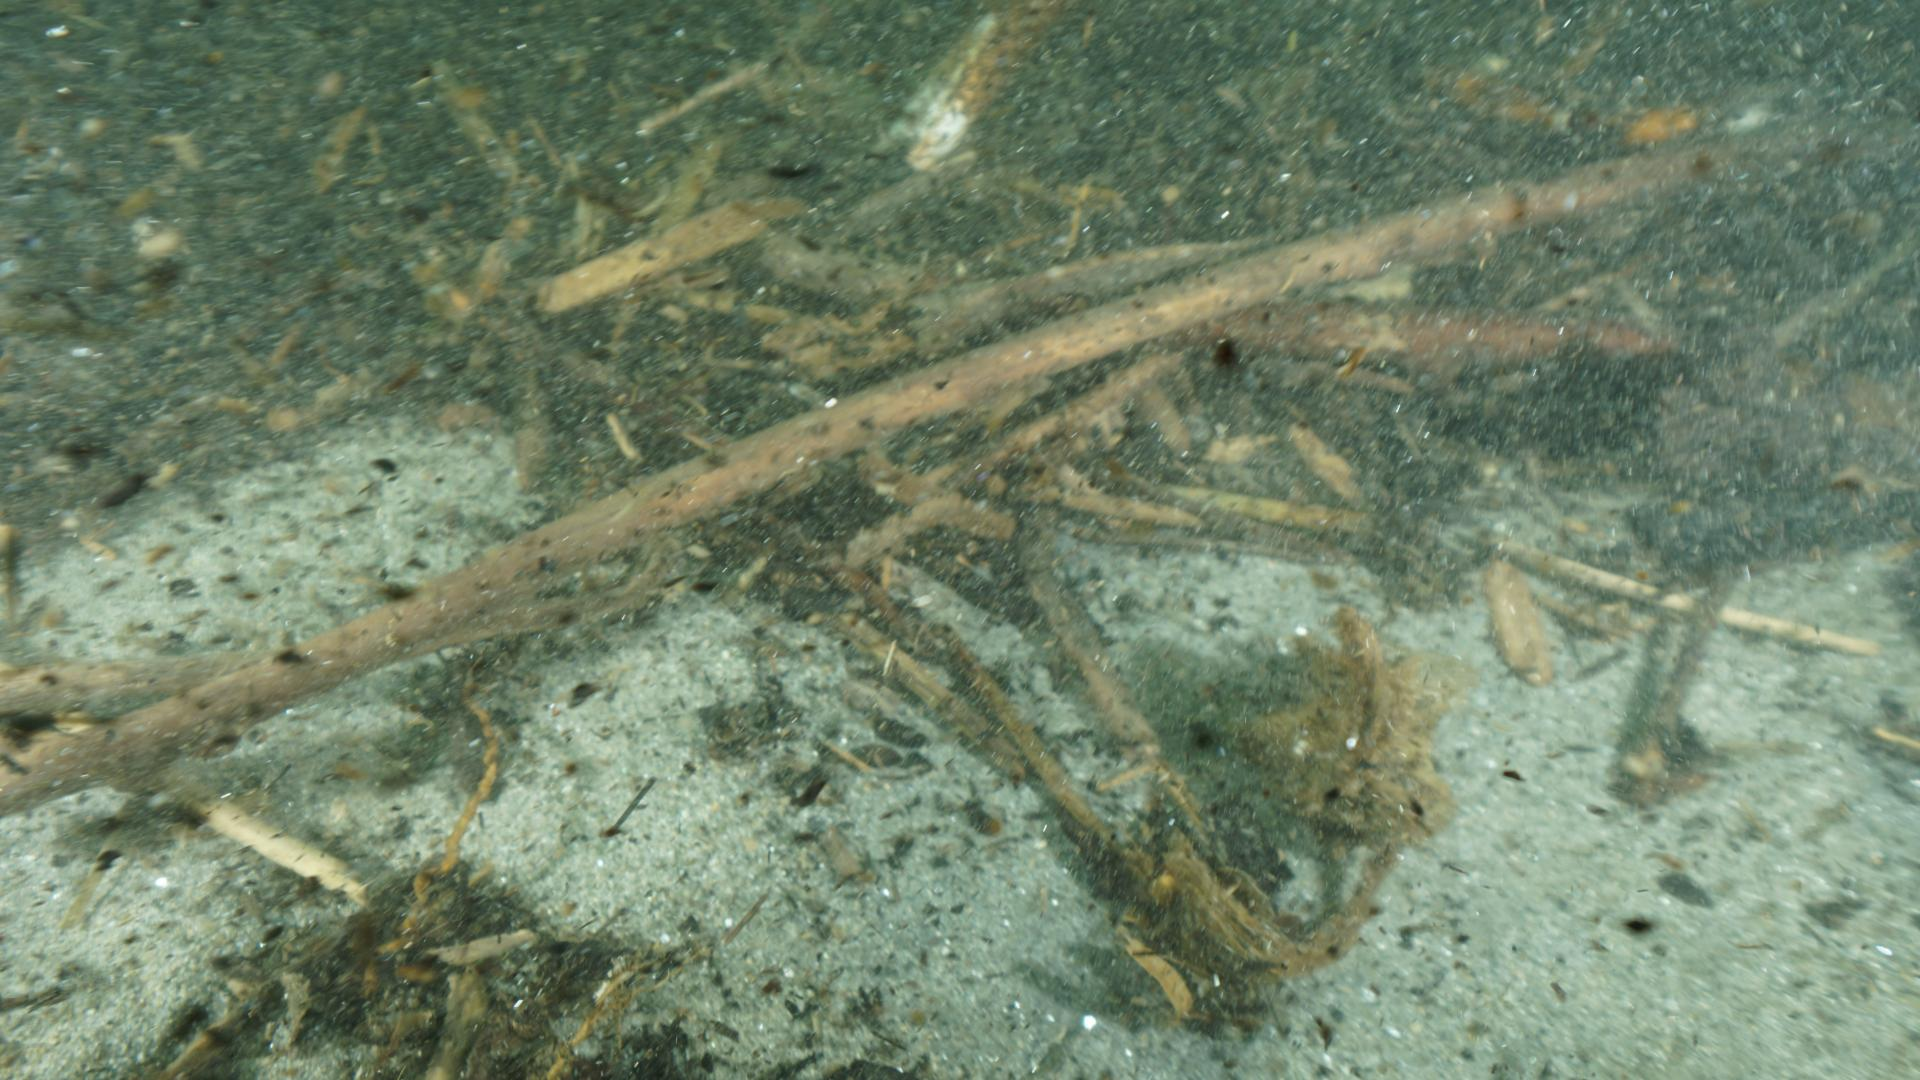wood: (0, 129, 1830, 819)
